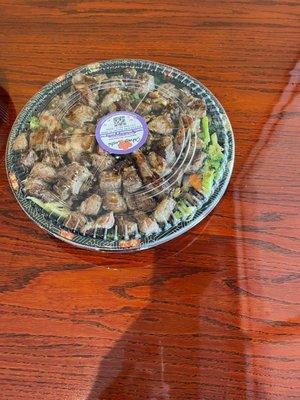curry: (0, 1, 300, 355)
sandwich: (10, 62, 211, 248)
